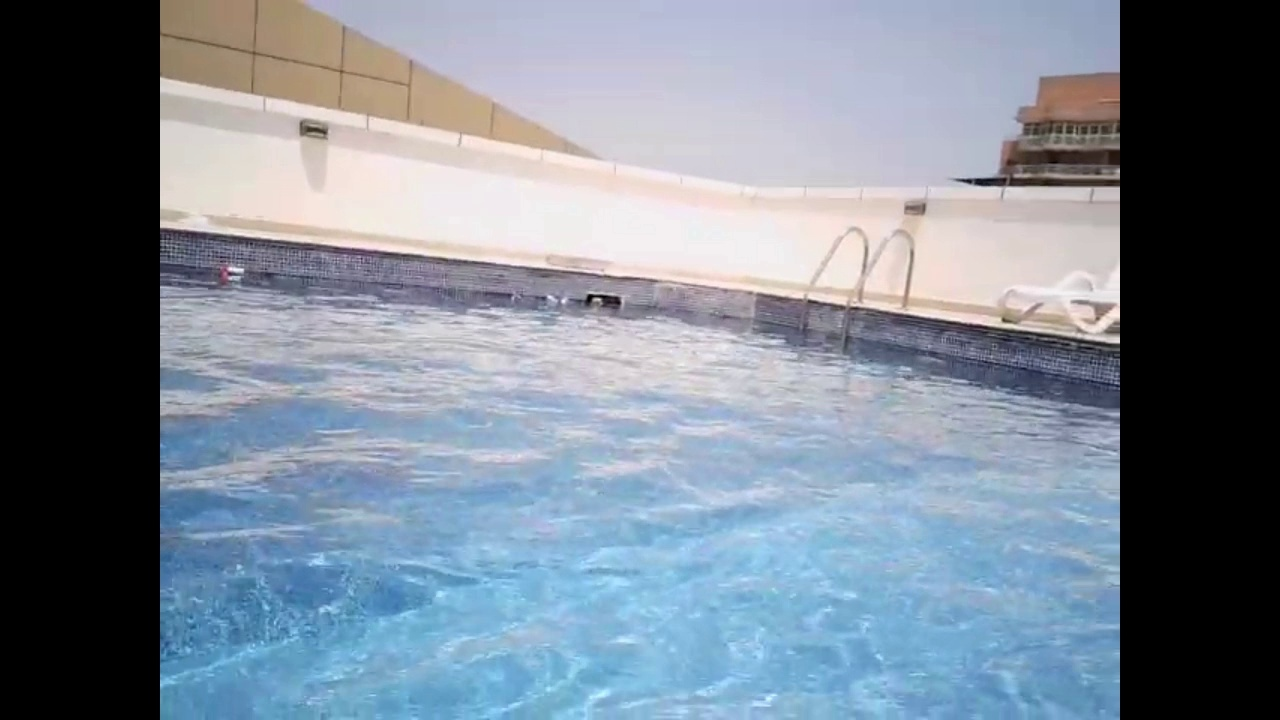debris: (222, 258, 247, 283), (542, 291, 561, 311), (551, 296, 574, 311), (506, 287, 524, 306), (586, 294, 606, 309)
